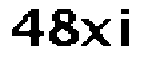4: (7, 8, 45, 51)
8: (47, 7, 80, 47)
i: (117, 6, 133, 51)
x: (79, 16, 112, 50)
